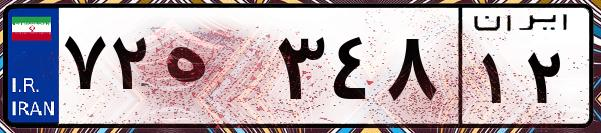1: (475, 38, 525, 113)
2: (525, 38, 570, 115), (110, 28, 158, 98)
3: (270, 28, 330, 110)
4: (330, 28, 385, 110)
7: (57, 26, 110, 100)
8: (385, 28, 445, 110)
ه: (158, 20, 270, 120)
